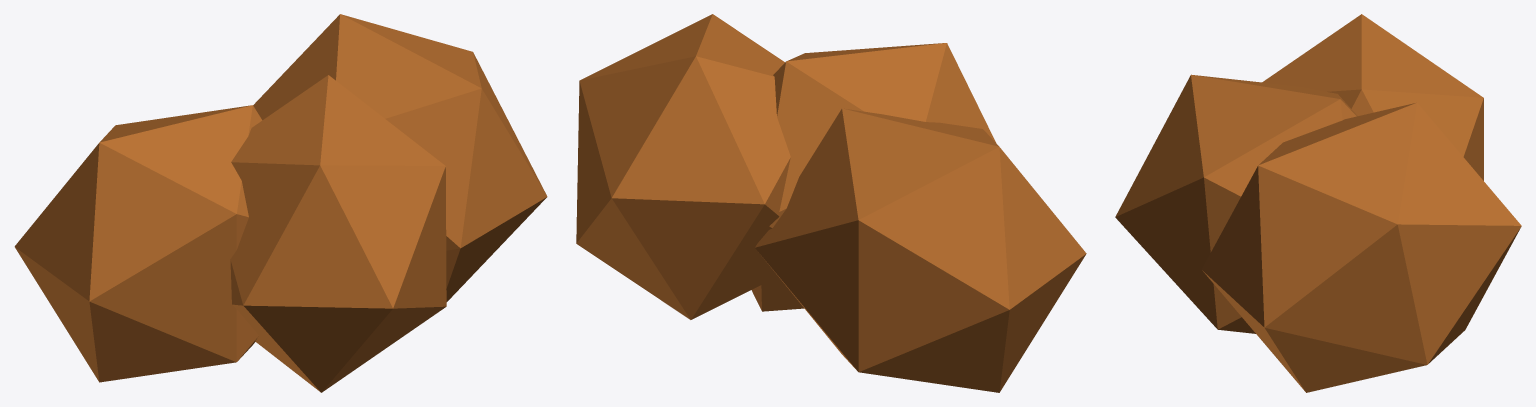
3 renders of one model, left to right at view 1: azimuth 30°, elevation 25°; view 2: azimuth 150°, elevation 25°; view 3: azimuth 270°, elevation 25°, orthographic. The views are drawn at different scales.
Parts seen in each view (by area): view 1: V04_橘叶矮灌丛; view 2: V04_橘叶矮灌丛; view 3: V04_橘叶矮灌丛.
Boxes of the visible parts, x1=… form: V04_橘叶矮灌丛: x1=14, y1=14, x2=547, y2=392; V04_橘叶矮灌丛: x1=576, y1=14, x2=1086, y2=392; V04_橘叶矮灌丛: x1=1115, y1=14, x2=1521, y2=392.
Bounding box in the file's own units: 0.7965 × 0.4814 × 0.6229.
